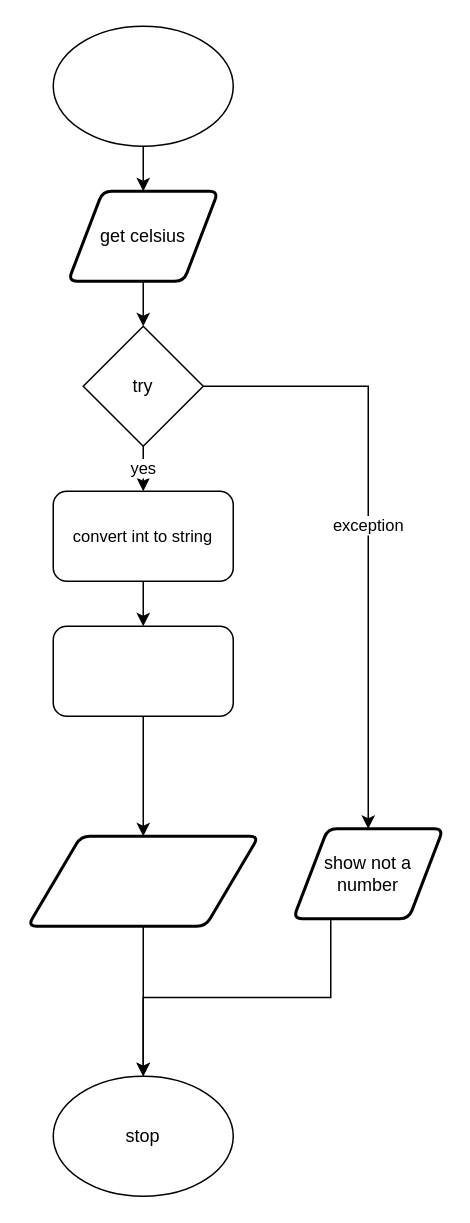
Some shapes in this 470 by 1223 pixel diagram are drawn without their labels. The centre of each missing label's shape, as x and y in pixels:
"fahrenheit = celsius * 9/5 + 32" belongs at (x=142, y=670).
"fahrenheit()" belongs at (x=142, y=85).
"show fahrenheit" belongs at (x=143, y=880).
